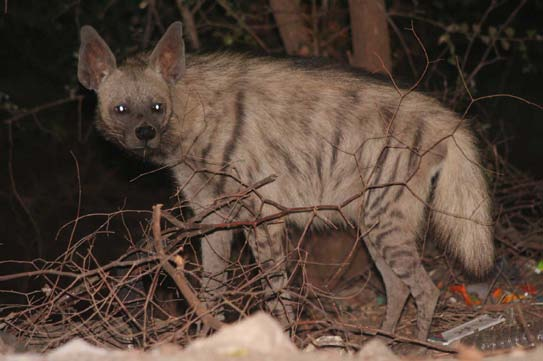hyena: (76, 11, 500, 340)
